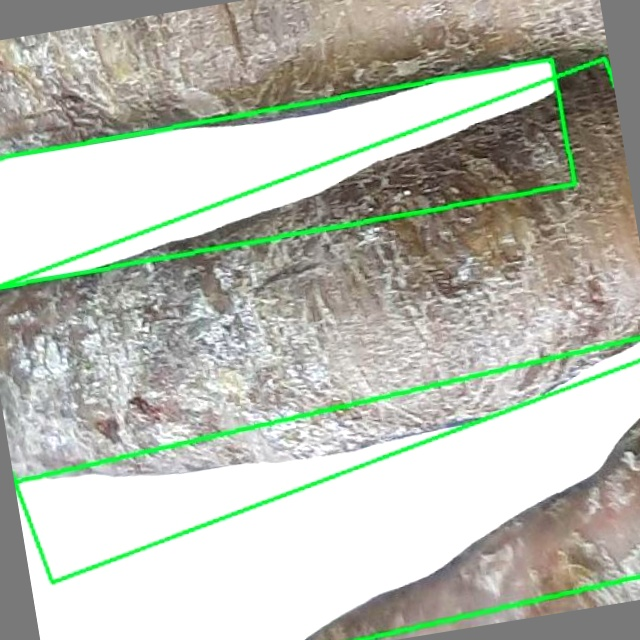Eczema: (0, 58, 639, 581), (14, 338, 639, 639), (0, 58, 575, 286)
